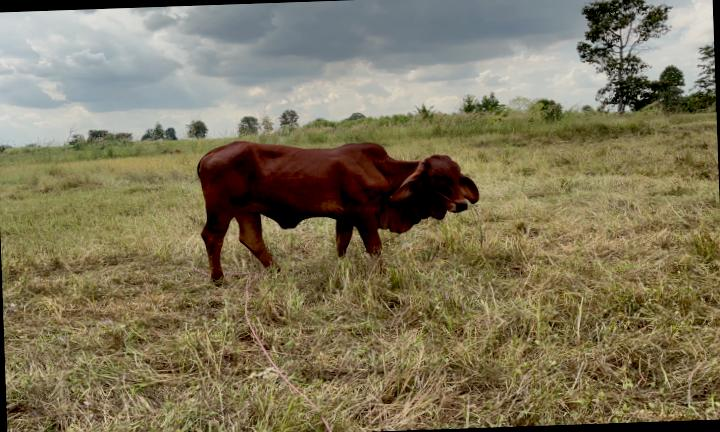Brahman: (198, 141, 479, 279)
